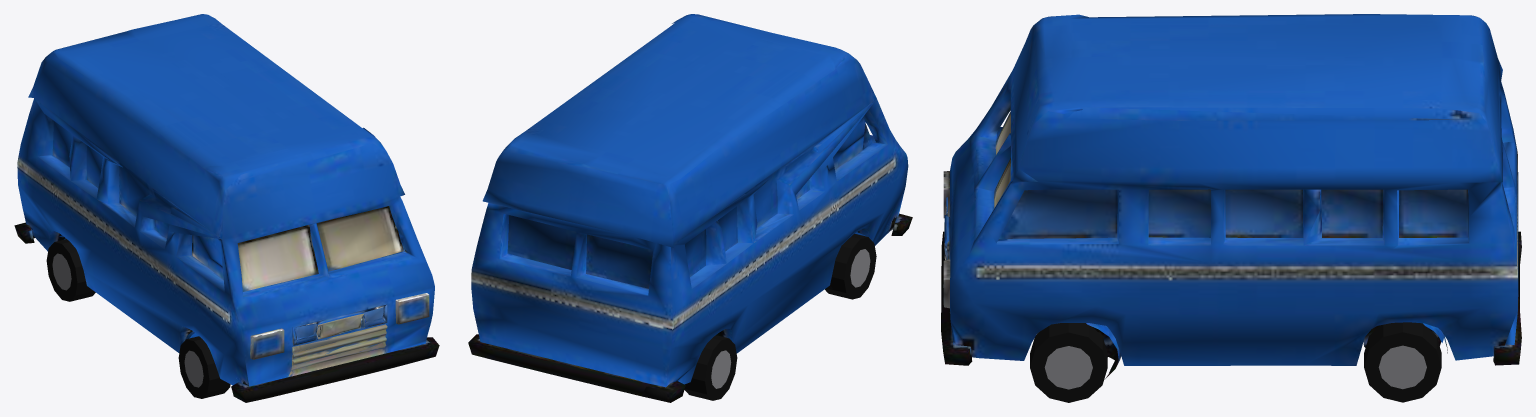
The model's file is danfo-blue-white.glb.
3 views of the same model, side by side, from view 1: azimuth 30°, elevation 25°; view 2: azimuth 150°, elevation 25°; view 3: azimuth 270°, elevation 25° (orthographic). The views are drawn at different scales.
Visible parts, largest first — view 1: danfo, wheel_fr, wheel_rr; view 2: danfo, wheel_fr, wheel_rr; view 3: danfo, wheel_rl, wheel_fl.
Part boxes in pixels (x1=…): danfo: x1=14, y1=14, x2=439, y2=402; wheel_fr: x1=178, y1=336, x2=230, y2=398; wheel_rr: x1=46, y1=239, x2=95, y2=301; danfo: x1=468, y1=14, x2=912, y2=402; wheel_fr: x1=825, y1=233, x2=876, y2=299; wheel_rr: x1=684, y1=335, x2=737, y2=400; danfo: x1=941, y1=14, x2=1521, y2=378; wheel_rl: x1=1364, y1=322, x2=1441, y2=402; wheel_fl: x1=1030, y1=323, x2=1107, y2=402.
Size of the model in its own units: 2.49 by 2.67 by 4.94.
Materials: 1 (1 with a texture image).
